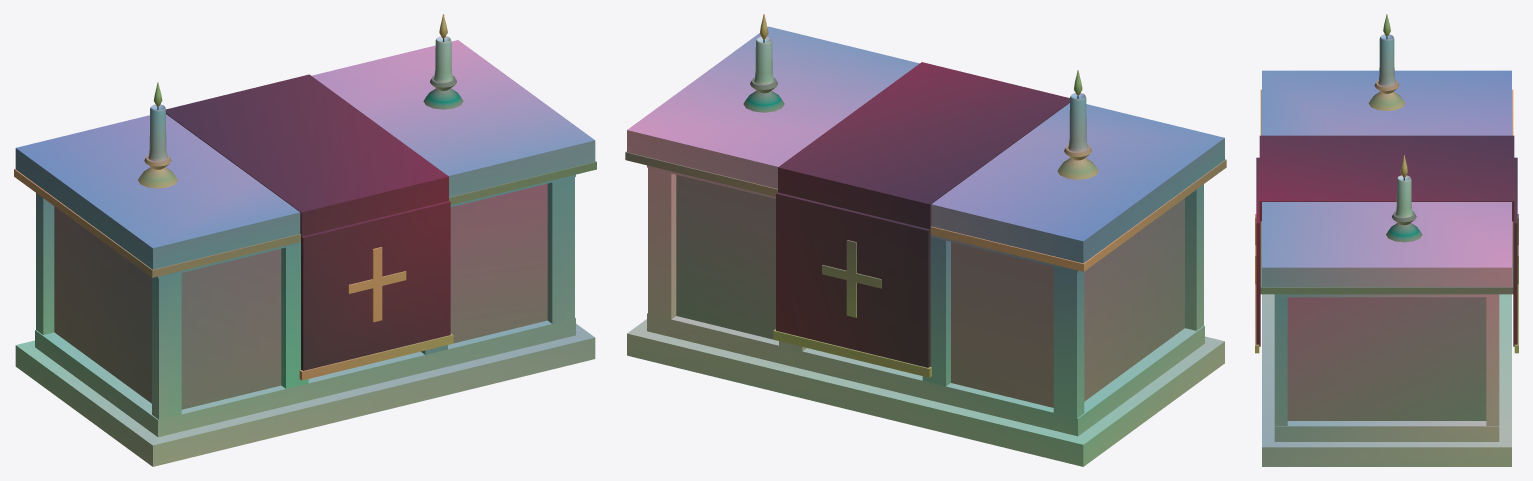
File: altar.glb
3 views of the same model, side by side, from view 1: azimuth 30°, elevation 25°; view 2: azimuth 150°, elevation 25°; view 3: azimuth 270°, elevation 25° (orthographic). The views are drawn at different scales.
Visible parts, largest first — view 1: altar_body, altar_cloth, altar_core, altar_gilt, candle, altar_holder.001, altar_holder, candle.001; view 2: altar_body, altar_cloth, altar_core, altar_gilt, candle, altar_holder, altar_holder.001, candle.001; view 3: altar_body, altar_core, altar_cloth, altar_gilt, candle, altar_holder.001, altar_holder, candle.001.
Part boxes in pixels (x1,y1,x2,y2): altar_body: (15,40,595,466); altar_cloth: (166,74,450,370); altar_core: (54,183,547,409); altar_gilt: (14,161,596,380); candle: (148,104,167,161); altar_holder.001: (423,75,463,109); altar_holder: (138,154,177,188); candle.001: (434,36,453,82); altar_body: (627,26,1224,466); altar_cloth: (776,62,1069,367); altar_core: (676,175,1184,407); altar_gilt: (625,151,1226,377); candle: (1068,93,1088,151); altar_holder: (1057,144,1098,179); altar_holder.001: (743,77,784,112); candle.001: (754,37,774,84); altar_body: (1262,70,1511,466); altar_core: (1287,297,1486,420); altar_cloth: (1256,135,1517,346); altar_gilt: (1255,89,1518,353); candle: (1378,34,1395,86); altar_holder.001: (1386,211,1422,242); altar_holder: (1368,80,1405,110); candle.001: (1395,175,1413,217).
Bounding box in the file's own units: 2.17 × 1.48 × 1.22.
